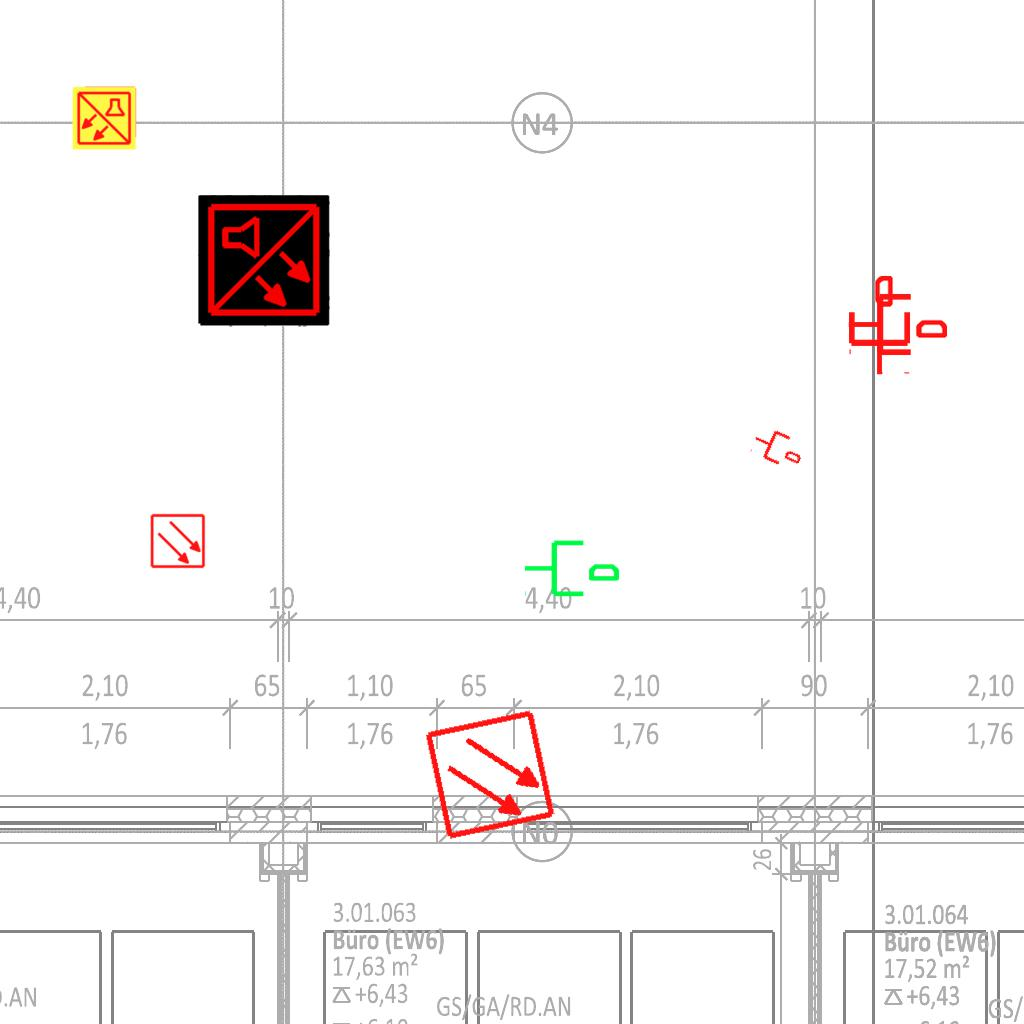Datenanschluss_einfach: (522, 532, 622, 601), (845, 276, 914, 376), (847, 290, 947, 359), (748, 422, 808, 474)
OKW_Multisensormelder_(Kombination_optischer_Rauch-Kahlenmonoxid_Waerme-Melder): (198, 195, 330, 327), (71, 85, 137, 151)
RMO_Rauchmelder_optischer: (423, 707, 558, 842), (150, 513, 206, 569)
